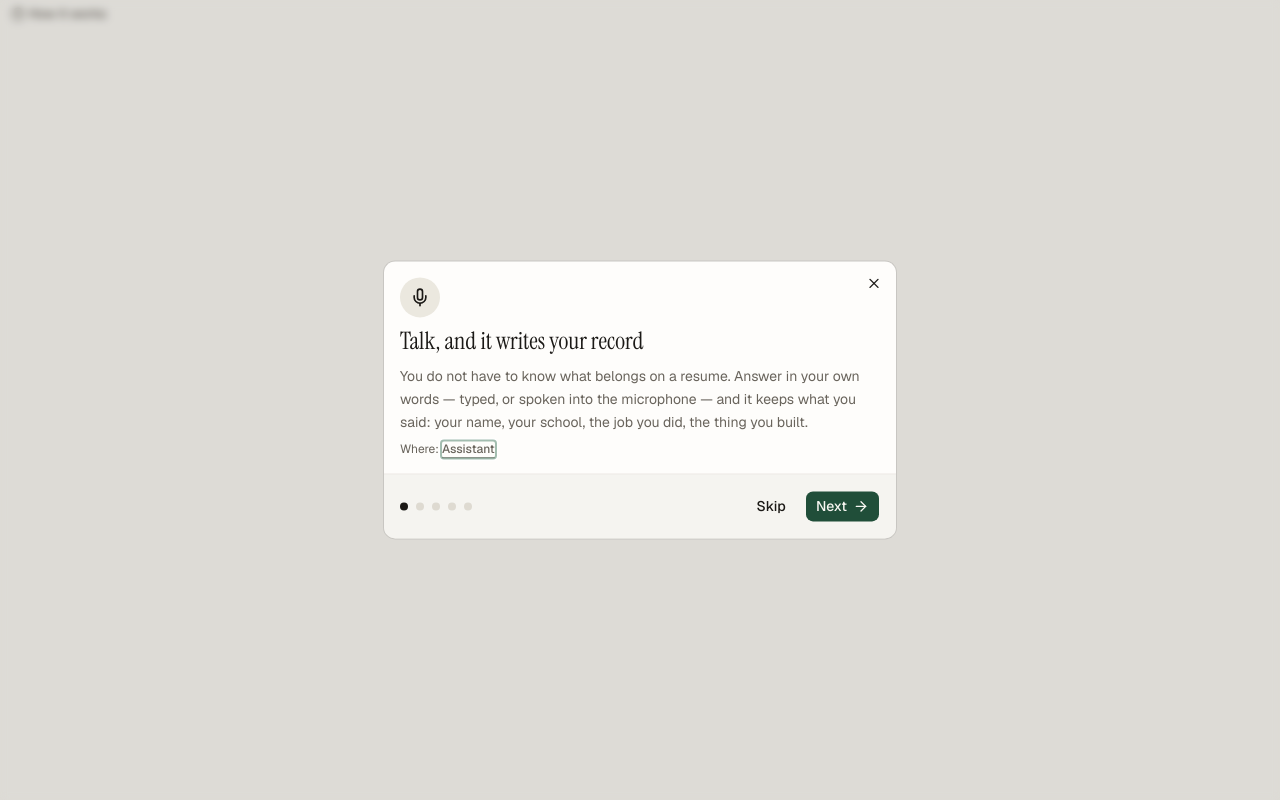
Test case: Walkthrough › walks through to the end and sends you to the assistant
This screenshot has width=1280, height=800.
Expected: the heading "Talk, and it writes your record" is shown, [400,325,644,356]
What coordinates should you click on to do the following:
click the button "Next"
I would click on:
 (842, 507)
Its box is [805,491,880,523].
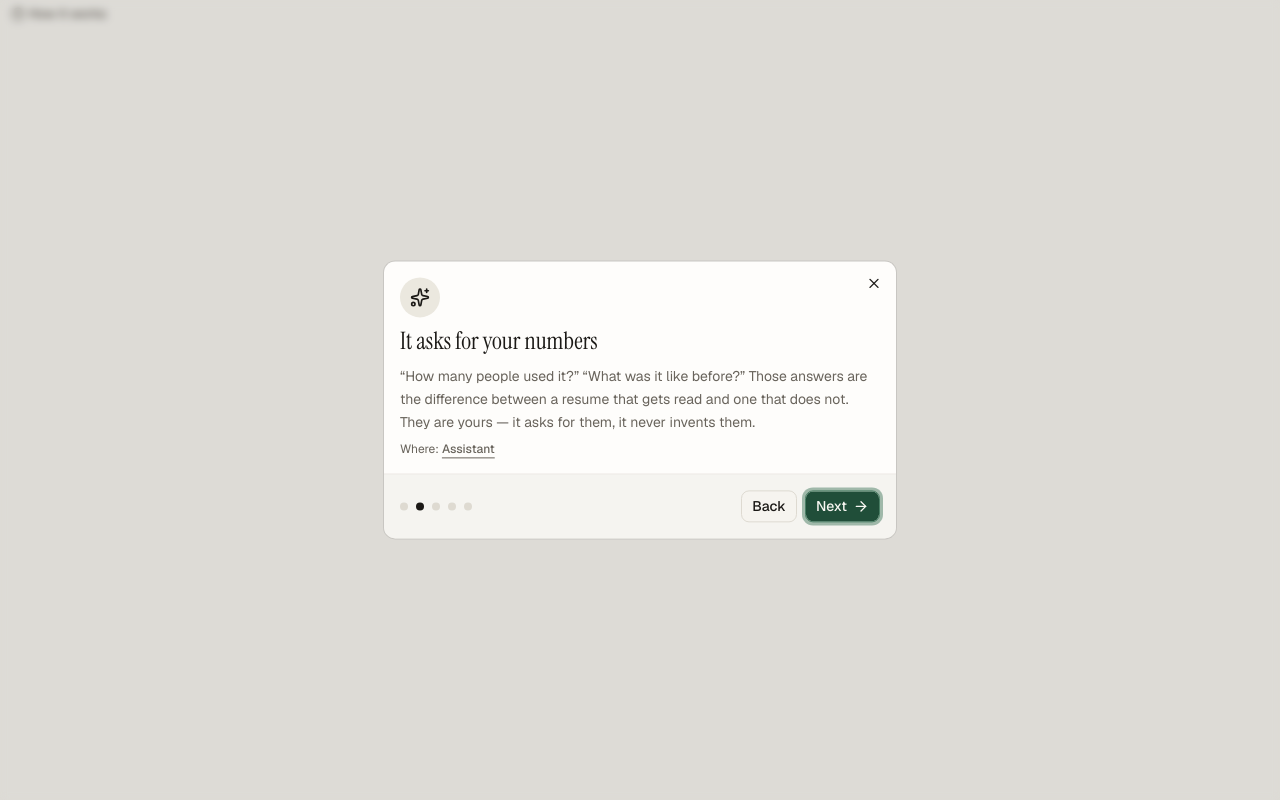
Result: the heading "It asks for your numbers" is shown at [400,325,598,356]
What coordinates should you click on to do the following:
click the button "Back"
I would click on:
 (769, 507)
Its box is [741,491,797,523].
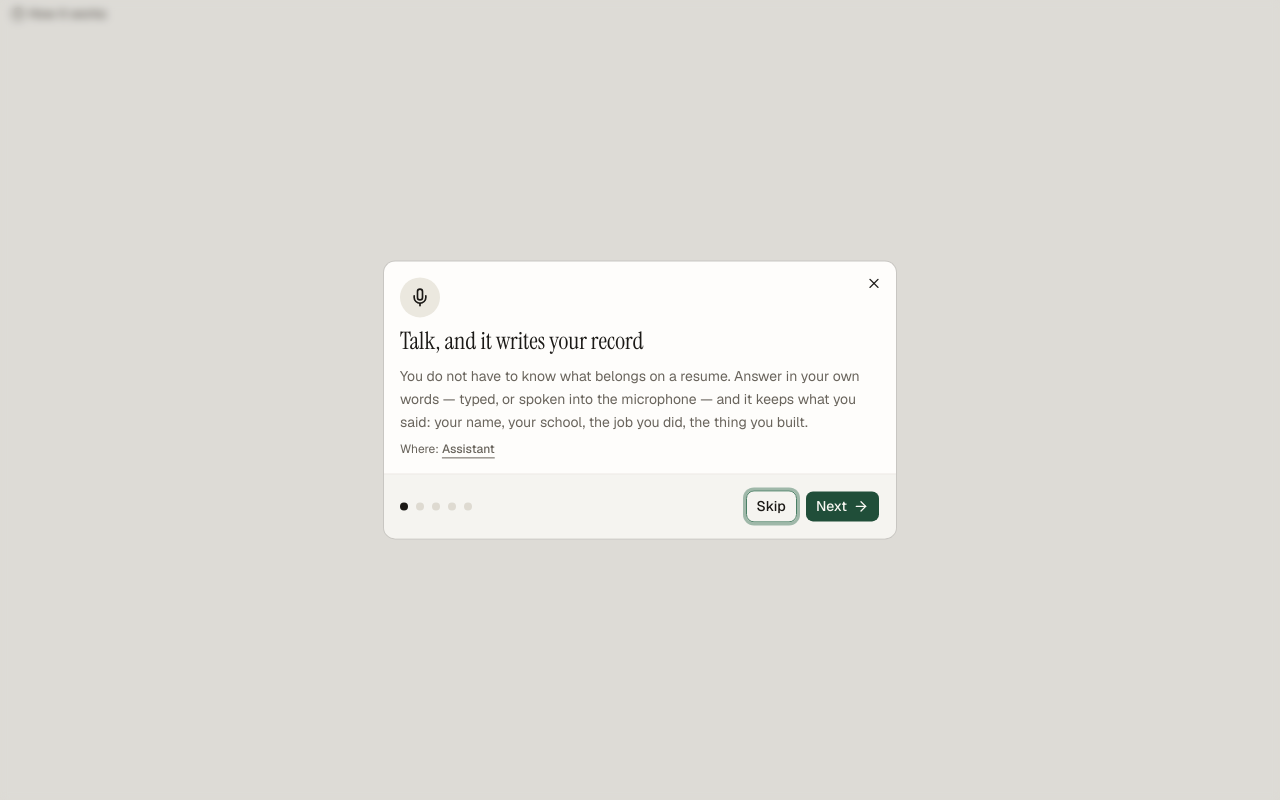
Result: the heading "Talk, and it writes your record" is shown at [400,325,644,356]
What coordinates should you click on to do the following:
click the button named "Step 5:"
I would click on:
 (468, 507)
Its box is [464,503,472,511].
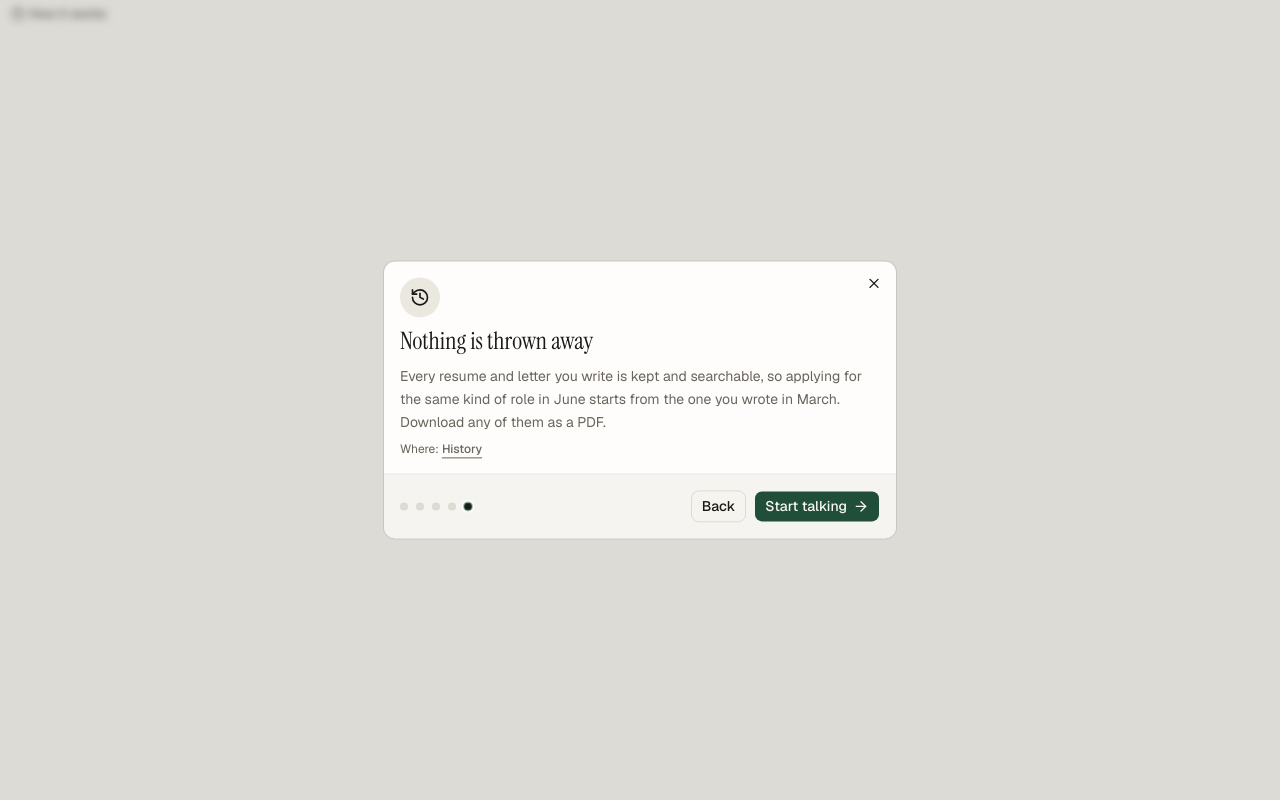
Result: the heading "Nothing is thrown away" is shown at [400,325,593,356]
